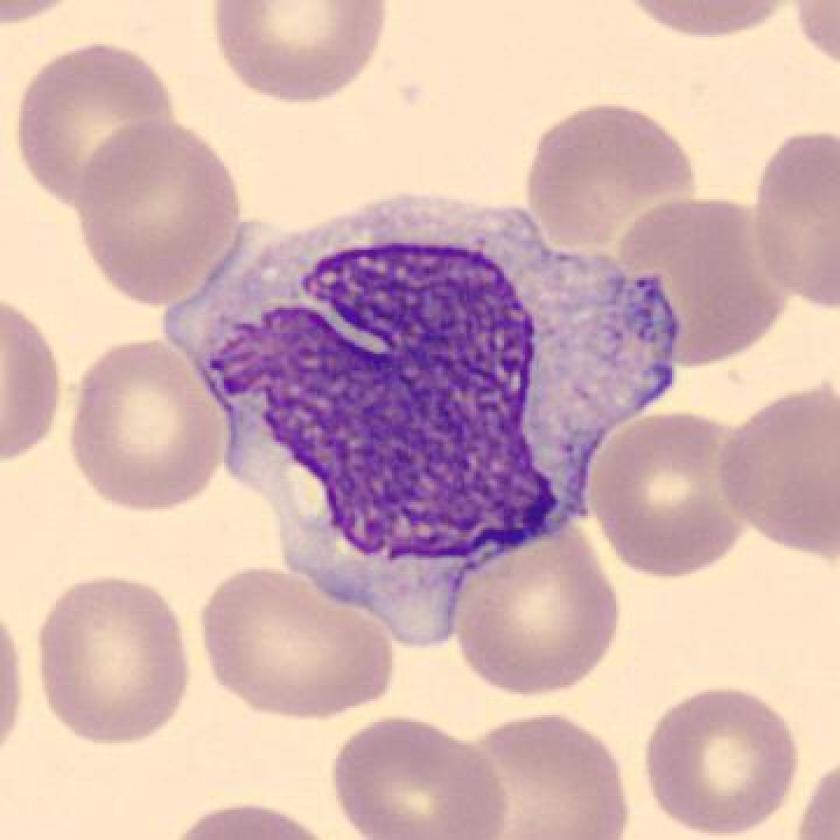monocyte: (155, 172, 701, 658)
